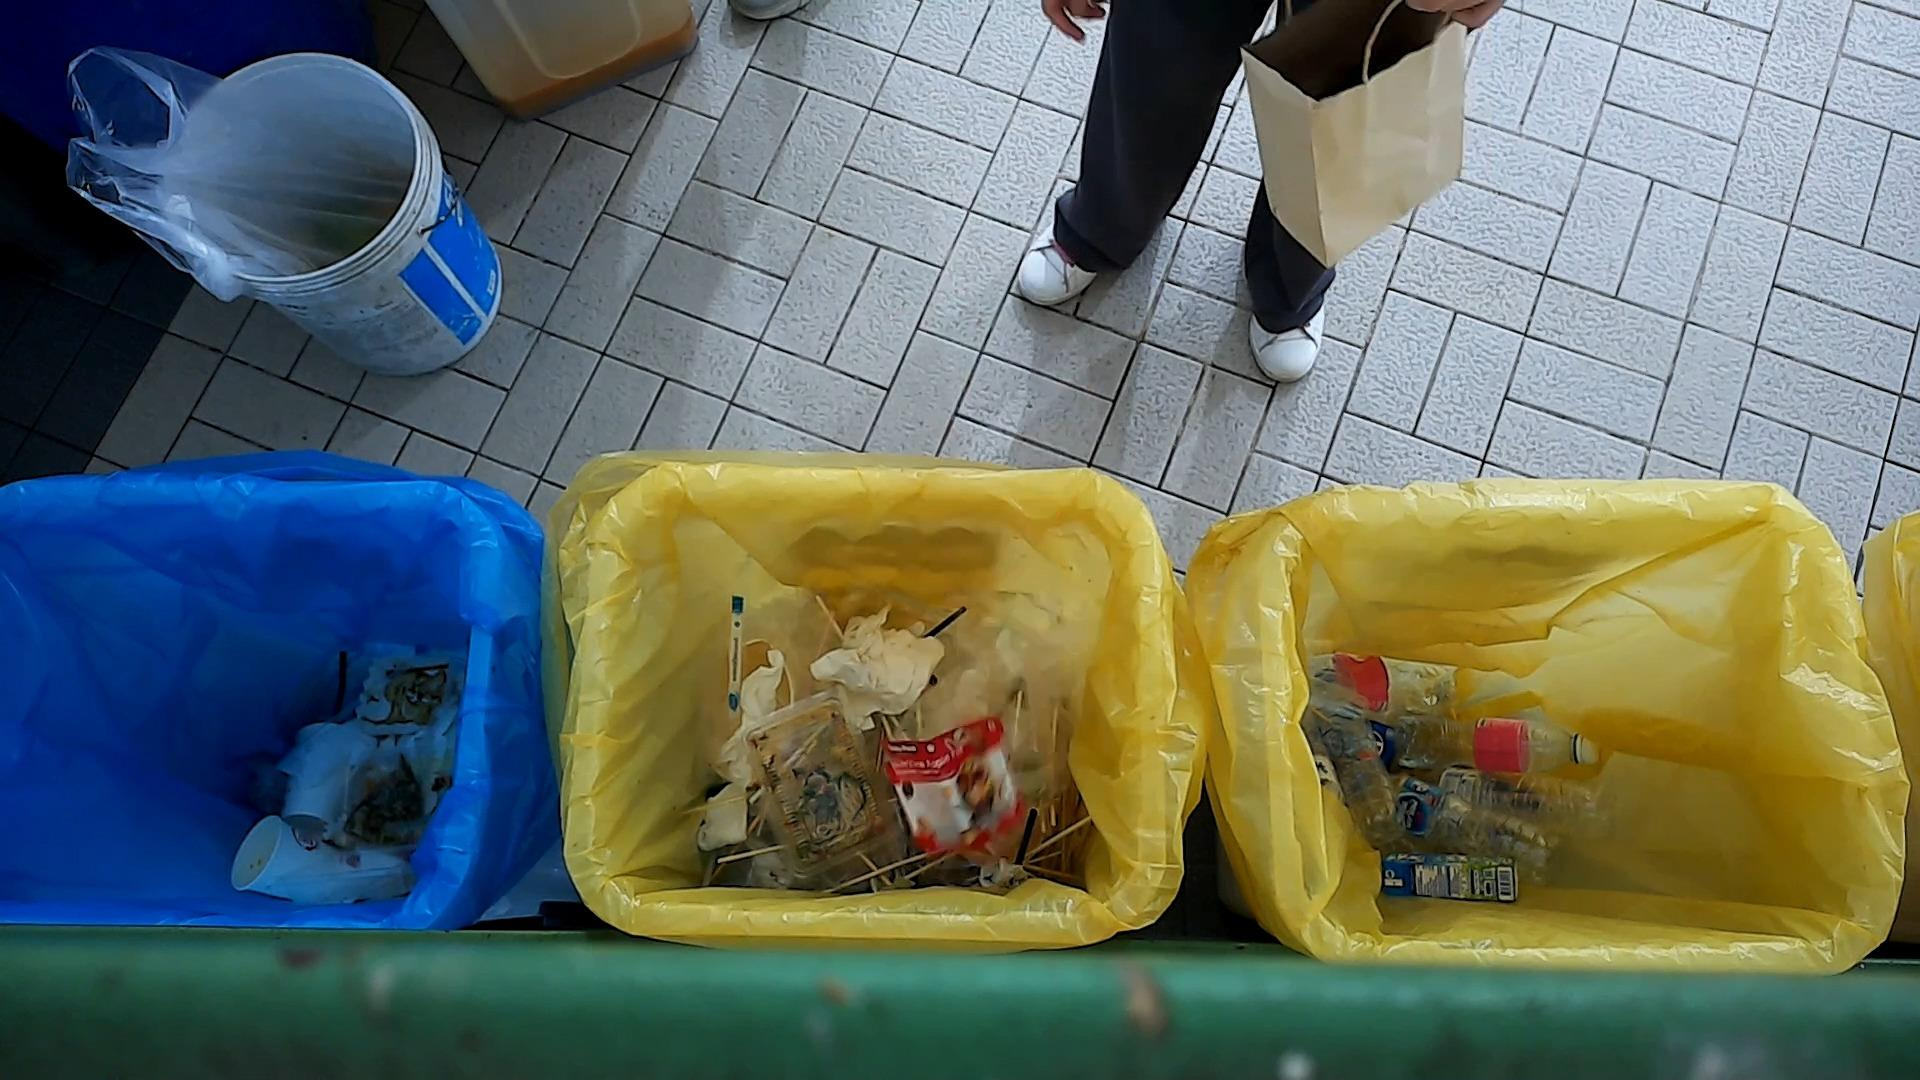dirty food container: (733, 683, 914, 882), (328, 732, 480, 865), (349, 654, 460, 738)
filled plastic bag: (889, 579, 1102, 865)
milk carton: (1375, 848, 1523, 907)
paper bag: (1232, 0, 1476, 273)
plastic bottle: (1382, 766, 1569, 880), (1435, 765, 1615, 849), (1387, 712, 1604, 778), (1321, 698, 1404, 844)
snack packaging: (877, 713, 1026, 857)
sticks: (820, 851, 935, 895), (1025, 814, 1095, 857)
straw: (324, 649, 351, 723), (1015, 806, 1042, 869)
tissue paper: (824, 608, 949, 737), (713, 645, 789, 787), (694, 781, 753, 856), (804, 645, 873, 695), (975, 856, 1030, 894)
zero waste cup: (229, 811, 377, 907), (276, 720, 375, 841)
